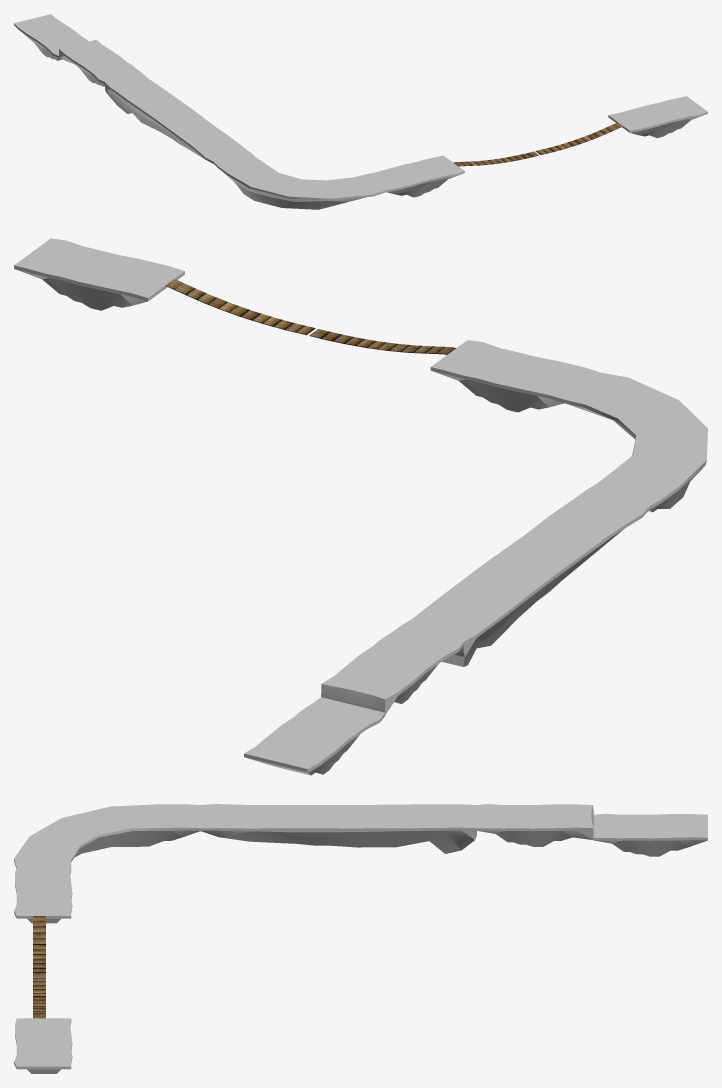
The model's file is groundGrp.fbx.
3 renders of one model, top to bottom at view 1: azimuth 30°, elevation 25°; view 2: azimuth 150°, elevation 25°; view 3: azimuth 270°, elevation 25°, orthographic. The views are drawn at different scales.
Visible parts, largest first — view 1: G3, G4, G6, G5, G2, G1, B1; view 2: G3, G4, G6, G5, G2, G1, B1; view 3: G3, G4, G2, G1, G6, G5, B1.
Part boxes in pixels (x1=…): G3: x1=105, y1=73, x2=250, y2=163; G4: x1=213, y1=153, x2=386, y2=209; G6: x1=608, y1=96, x2=707, y2=137; G5: x1=365, y1=155, x2=464, y2=197; G2: x1=59, y1=39, x2=141, y2=86; G1: x1=14, y1=14, x2=88, y2=60; B1: x1=454, y1=122, x2=623, y2=166; G3: x1=400, y1=490, x2=650, y2=666; G4: x1=564, y1=373, x2=707, y2=512; G6: x1=14, y1=238, x2=184, y2=310; G5: x1=430, y1=340, x2=601, y2=412; G2: x1=321, y1=626, x2=463, y2=714; G1: x1=244, y1=697, x2=385, y2=775; B1: x1=165, y1=279, x2=455, y2=354; G3: x1=199, y1=804, x2=476, y2=853; G4: x1=14, y1=804, x2=200, y2=868; G2: x1=476, y1=804, x2=593, y2=846; G1: x1=593, y1=813, x2=707, y2=856; G6: x1=14, y1=1018, x2=72, y2=1073; G5: x1=14, y1=867, x2=72, y2=923; B1: x1=33, y1=916, x2=45, y2=1018.
Size of the model in its own units: 2693 by 166 by 3006.
